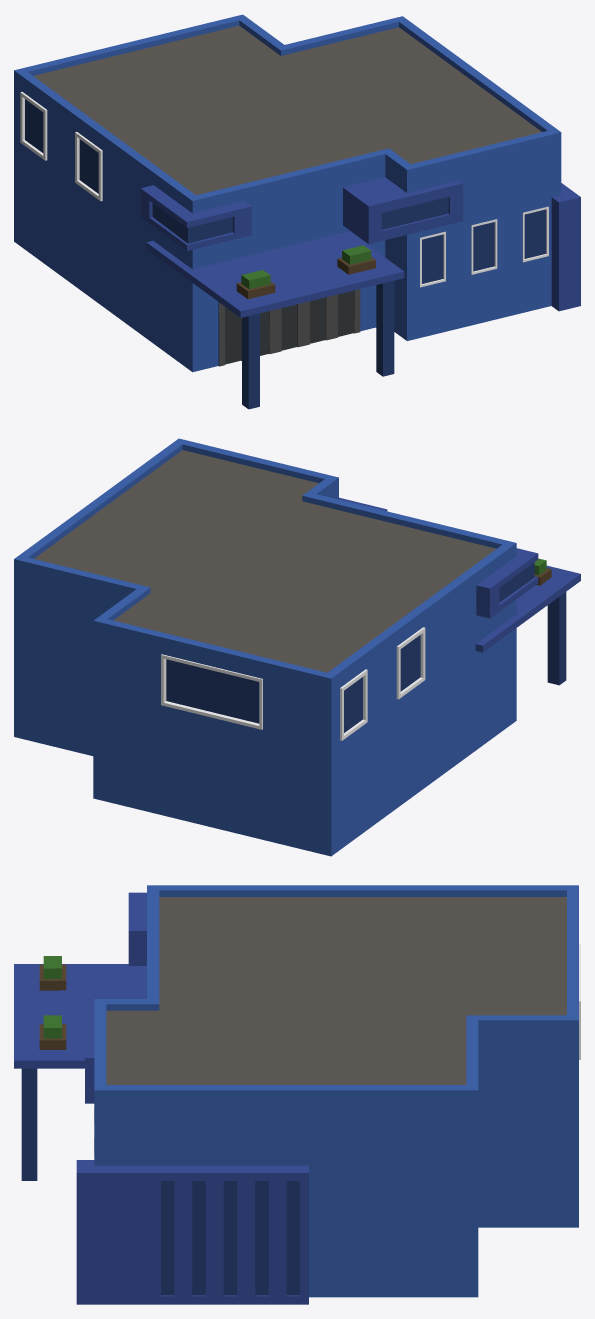
Rendered from Apartment_6.fbx.
The picture shows the model from 3 angles, top to bottom: view 1: azimuth 30°, elevation 25°; view 2: azimuth 150°, elevation 25°; view 3: azimuth 270°, elevation 25°; orthographic projection. The views are drawn at different scales.
Visible parts, largest first — view 1: Apartment_6; view 2: Apartment_6; view 3: Apartment_6.
Boxes of the visible parts, x1,y1,x2,y2 form: Apartment_6: [14, 14, 580, 409]; Apartment_6: [14, 438, 580, 856]; Apartment_6: [14, 885, 580, 1304].
Size of the model in its own units: 658 by 289 by 717.
